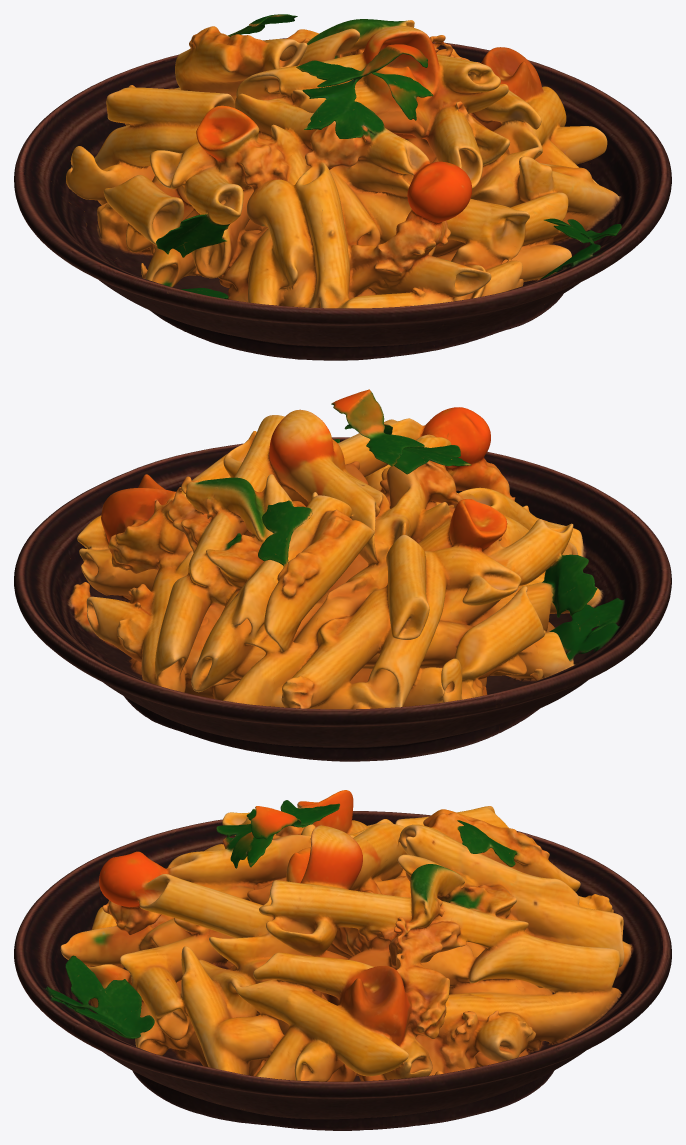
File: pasta.glb
3 renders of one model, top to bottom at view 1: azimuth 30°, elevation 25°; view 2: azimuth 150°, elevation 25°; view 3: azimuth 270°, elevation 25°, orthographic.
Bounding box in the file's own units: 1.9 × 0.7796 × 1.9.
Materials: 1 (1 with a texture image).
